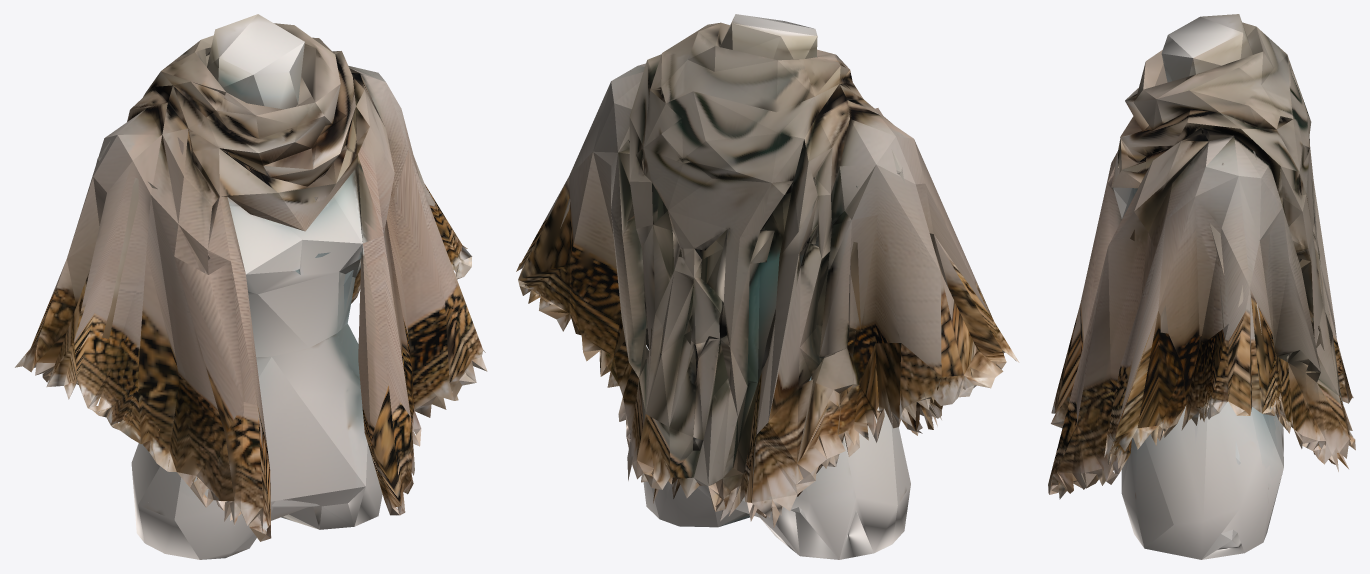
The model's file is product-lijin-002-web.glb.
3 renders of one model, left to right at view 1: azimuth 30°, elevation 25°; view 2: azimuth 150°, elevation 25°; view 3: azimuth 270°, elevation 25°, orthographic. The views are drawn at different scales.
Parts seen in each view (by area): view 1: material; view 2: material; view 3: material.
Boxes of the visible parts, x1,y1,x2,y2 form: material: (15, 14, 487, 559); material: (516, 14, 1019, 559); material: (1048, 14, 1355, 559).
Size of the model in its own units: 1.06 by 1.08 by 0.626.
Materials: 1 (1 with a texture image).
